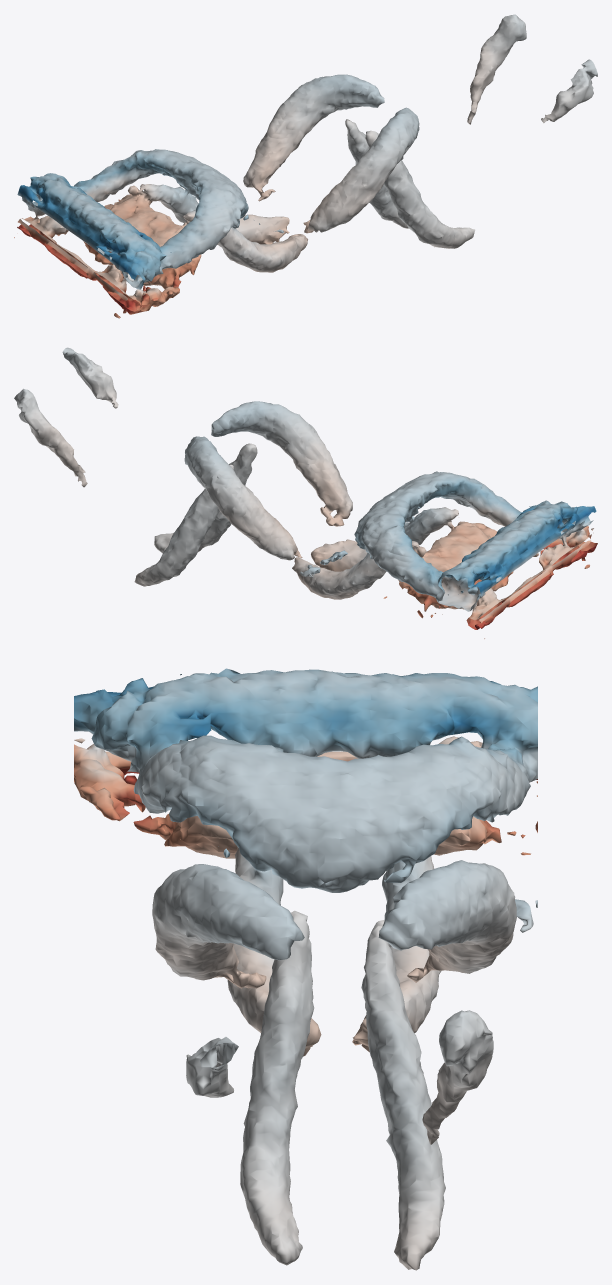
Rendered from q085-full.glb.
3 renders of one model, top to bottom at view 1: azimuth 30°, elevation 25°; view 2: azimuth 150°, elevation 25°; view 3: azimuth 270°, elevation 25°, orthographic. The views are drawn at different scales.
Bounding box in the file's own units: 6.32 × 2.19 × 2.54.
